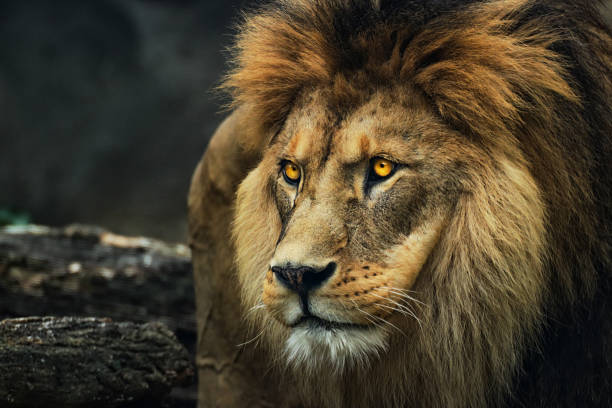lion: (166, 4, 612, 395)
